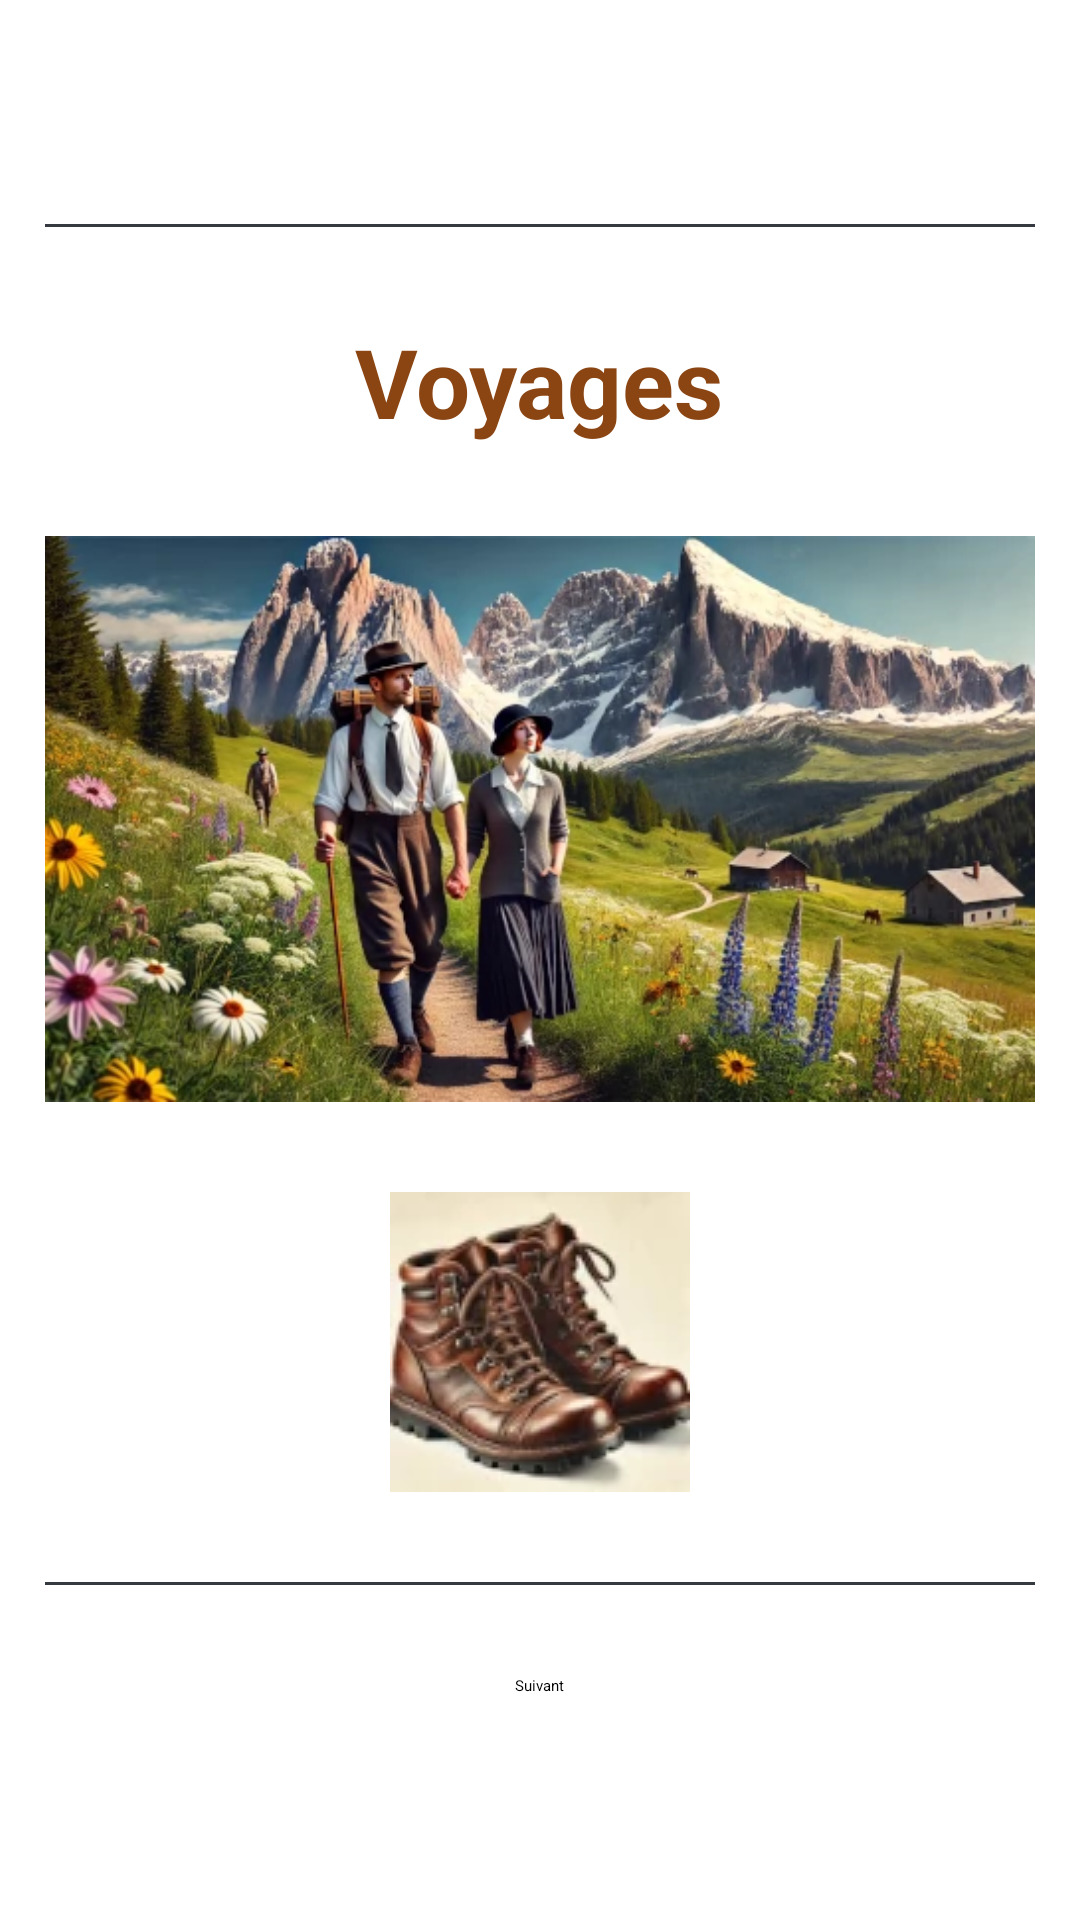

Screen size 1080×1920. Icon name, then its center in pixels as point (x, y):
Image de chaussures: point (540, 1342)
